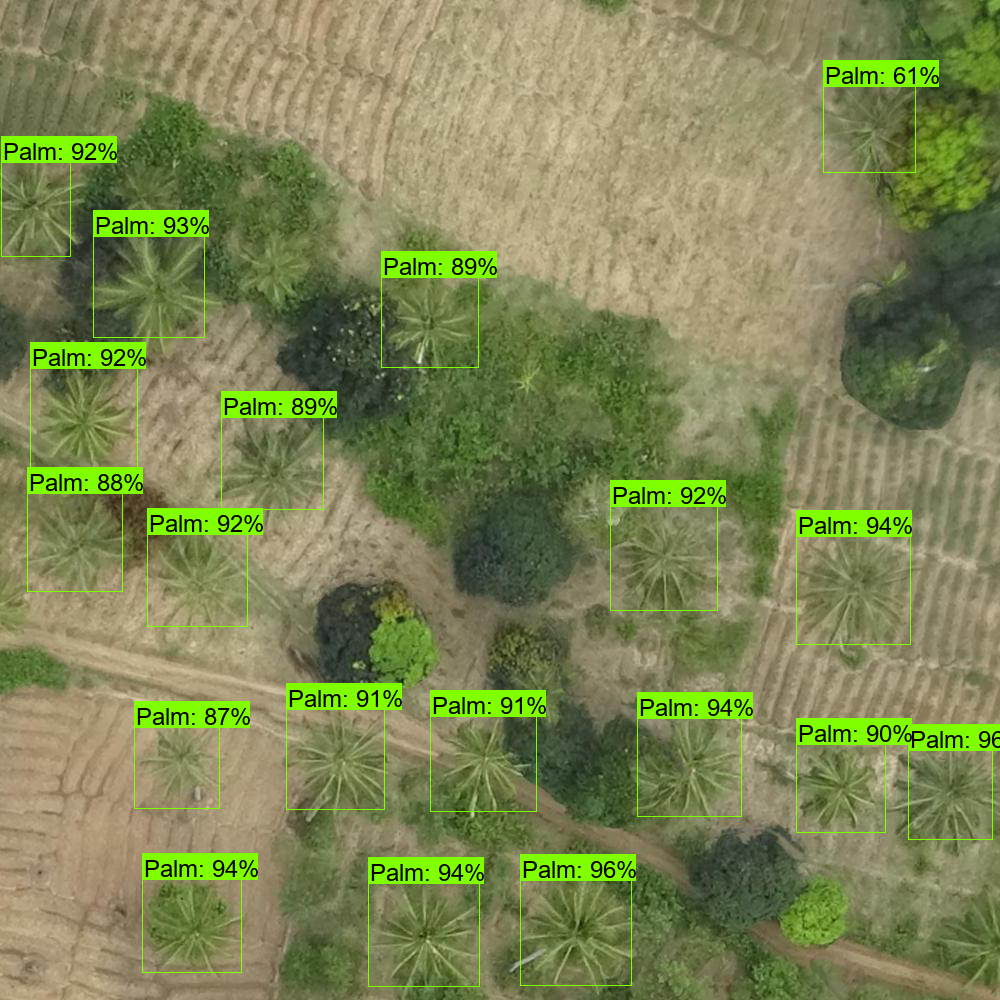Palm: (94, 228, 229, 348), (794, 529, 913, 643), (516, 880, 636, 984), (286, 709, 400, 813), (811, 78, 919, 183), (144, 532, 253, 635), (217, 421, 328, 522), (893, 751, 998, 855), (374, 888, 479, 989), (35, 367, 134, 471), (641, 715, 740, 815), (432, 719, 526, 814), (620, 518, 715, 608), (1, 160, 84, 259), (34, 505, 127, 591), (143, 889, 235, 974), (132, 718, 224, 802), (799, 747, 877, 830), (388, 279, 469, 355), (238, 231, 314, 306), (507, 668, 568, 732), (114, 168, 180, 227)
